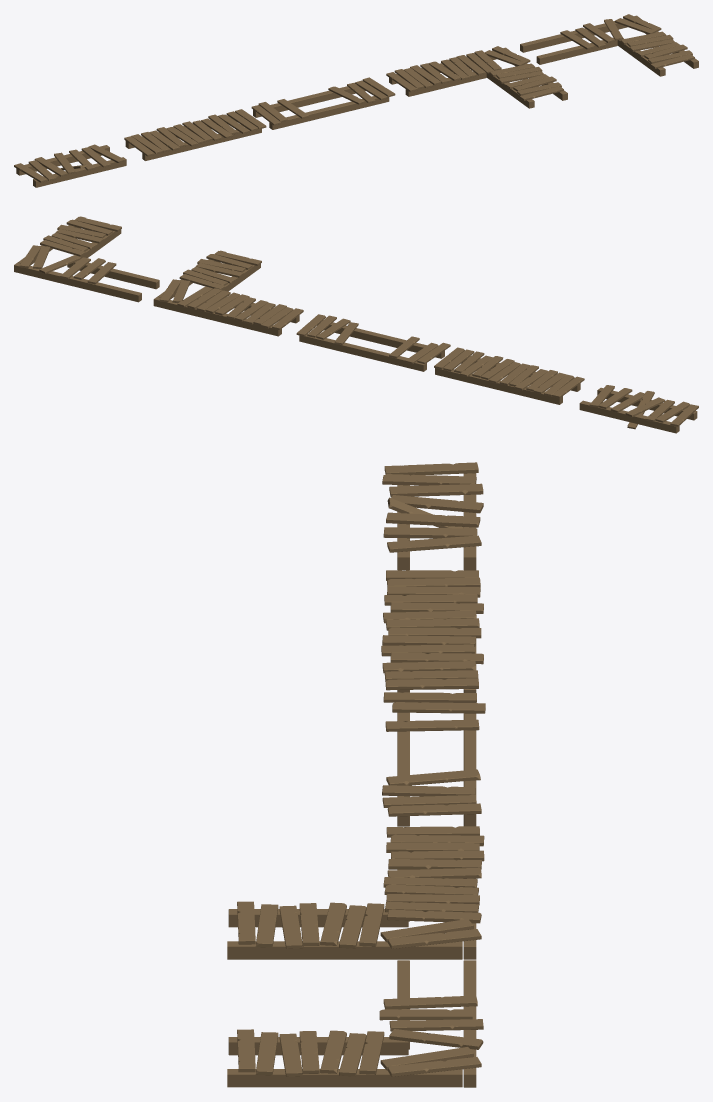
Rendered from Wooden_floor.fbx.
The picture shows the model from 3 angles, top to bottom: view 1: azimuth 30°, elevation 25°; view 2: azimuth 150°, elevation 25°; view 3: azimuth 270°, elevation 25°; orthographic projection. The views are drawn at different scales.
Visible parts, largest first — view 1: Wooden_planks_Angeld_1, Wooden_planks_Angeld_2, Wooden_planks_2, Wooden_planks_3, Wooden_planks_1; view 2: Wooden_planks_Angeld_1, Wooden_planks_Angeld_2, Wooden_planks_2, Wooden_planks_3, Wooden_planks_1; view 3: Wooden_planks_Angeld_1, Wooden_planks_Angeld_2, Wooden_planks_2, Wooden_planks_3, Wooden_planks_1.
Part boxes in pixels (left/top/right/bottom): Wooden_planks_Angeld_1: left=386, top=46, right=567, bottom=108; Wooden_planks_Angeld_2: left=520, top=14, right=698, bottom=76; Wooden_planks_2: left=124, top=109, right=266, bottom=160; Wooden_planks_3: left=251, top=77, right=395, bottom=129; Wooden_planks_1: left=14, top=144, right=126, bottom=187; Wooden_planks_Angeld_1: left=153, top=250, right=303, bottom=336; Wooden_planks_Angeld_2: left=14, top=216, right=159, bottom=302; Wooden_planks_2: left=434, top=347, right=584, bottom=404; Wooden_planks_3: left=296, top=314, right=450, bottom=371; Wooden_planks_1: left=579, top=385, right=698, bottom=433; Wooden_planks_Angeld_1: left=227, top=826, right=484, bottom=959; Wooden_planks_Angeld_2: left=227, top=960, right=483, bottom=1087; Wooden_planks_2: left=381, top=570, right=483, bottom=692; Wooden_planks_3: left=382, top=692, right=485, bottom=826; Wooden_planks_1: left=382, top=462, right=483, bottom=570.
Size of the model in its own units: 3105 by 92.88 by 555.
